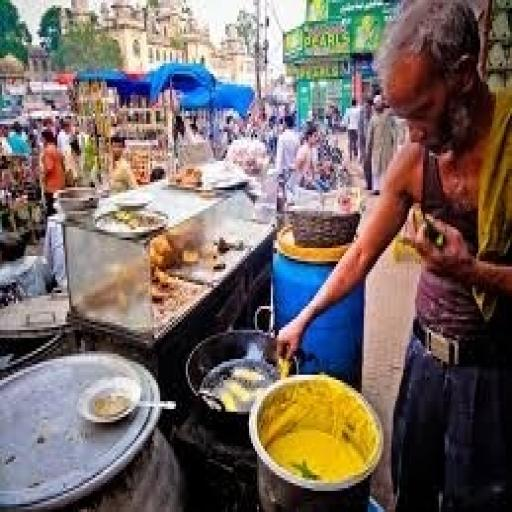eating: (273, 0, 510, 509)
